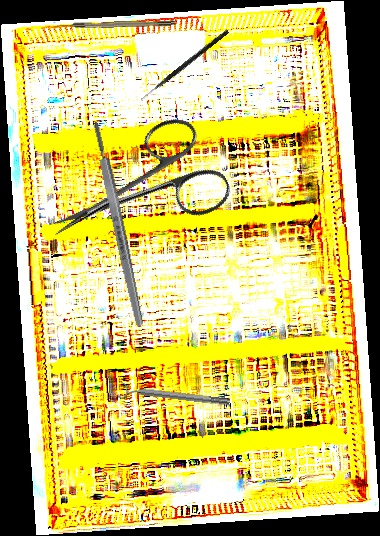Fixation Ring: (117, 380, 231, 412)
Hook Surgical: (139, 28, 230, 103), (52, 20, 176, 29)
Iris Scissors: (31, 108, 237, 278)
Scalpel Handle: (90, 120, 146, 328)
